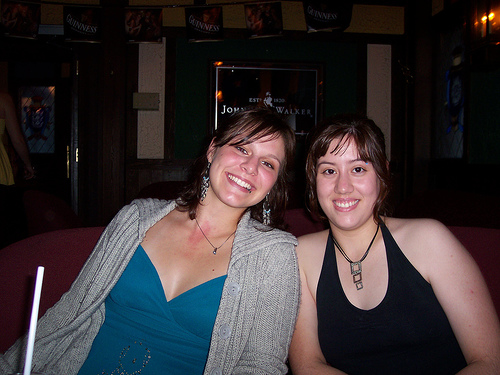without_mask: (203, 112, 294, 225), (301, 130, 393, 234)
